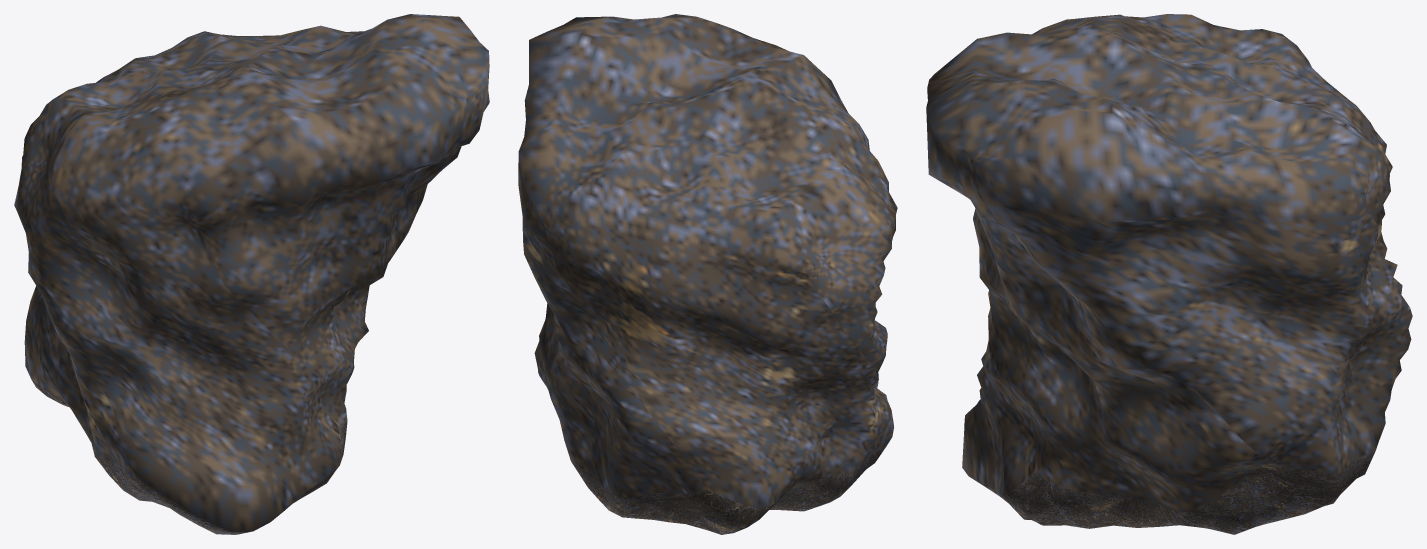
The model's file is SM_Rock_005.fbx.
3 views of the same model, side by side, from view 1: azimuth 30°, elevation 25°; view 2: azimuth 150°, elevation 25°; view 3: azimuth 270°, elevation 25° (orthographic). The views are drawn at different scales.
Parts seen in each view (by area): view 1: rock.005; view 2: rock.005; view 3: rock.005.
Part boxes in pixels (x1=…): rock.005: x1=14, y1=14, x2=489, y2=534; rock.005: x1=518, y1=14, x2=897, y2=534; rock.005: x1=926, y1=14, x2=1412, y2=534.
Size of the model in its own units: 3.25 by 2.96 by 3.39.
